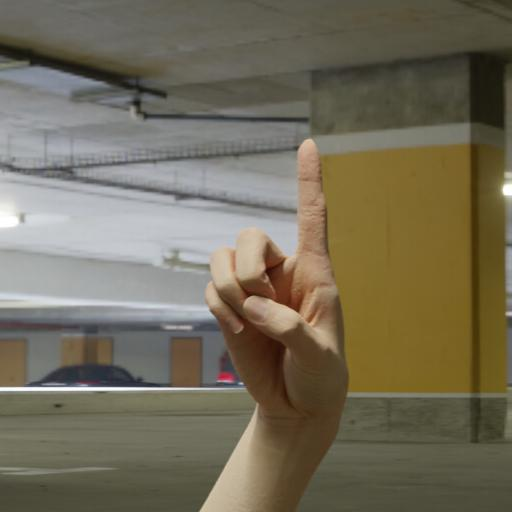D: (159, 108, 417, 456)
